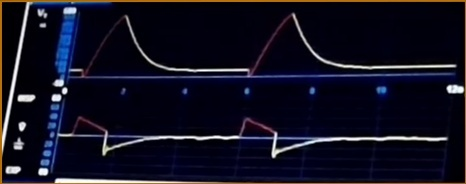Flow: (63, 110, 412, 178)
Leakage Volume: (70, 14, 445, 83)
